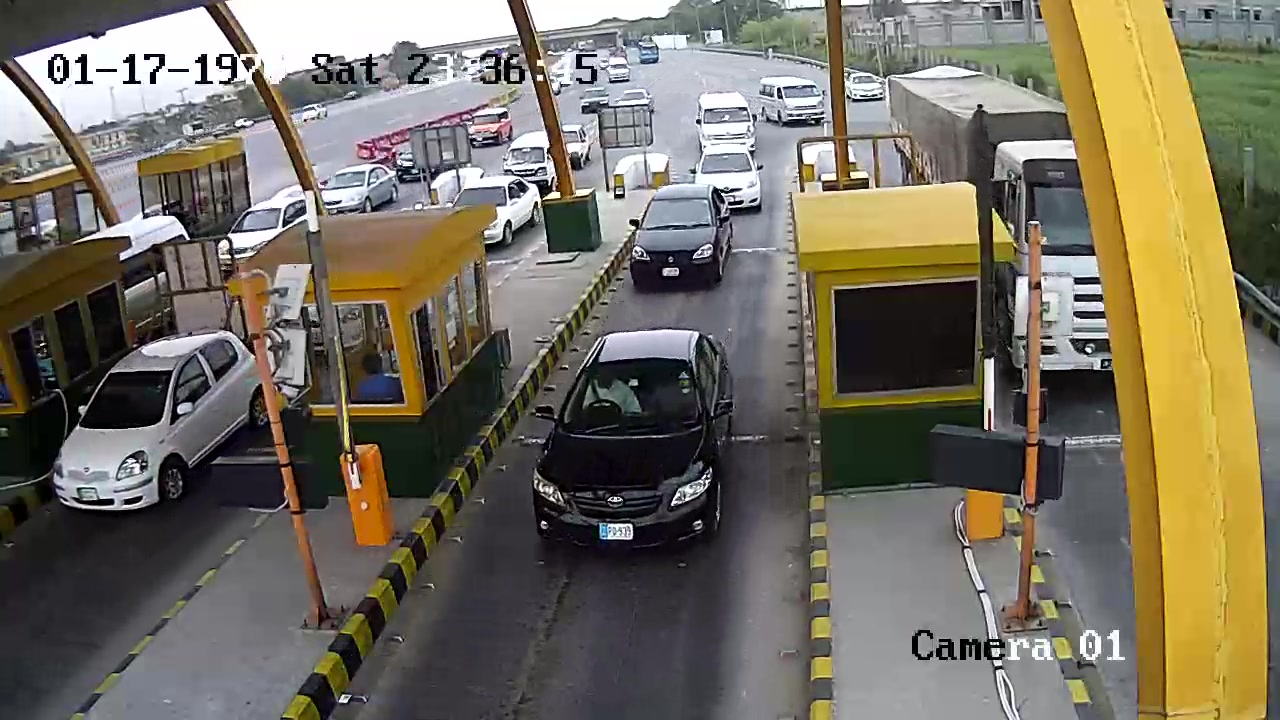F1: (524, 323, 753, 559), (625, 180, 738, 296)
